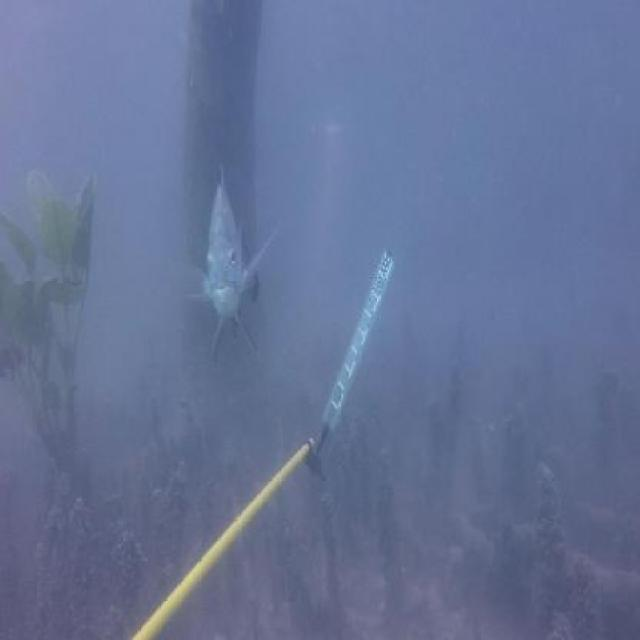acanthopagrus_palmaris: (182, 162, 292, 361)
